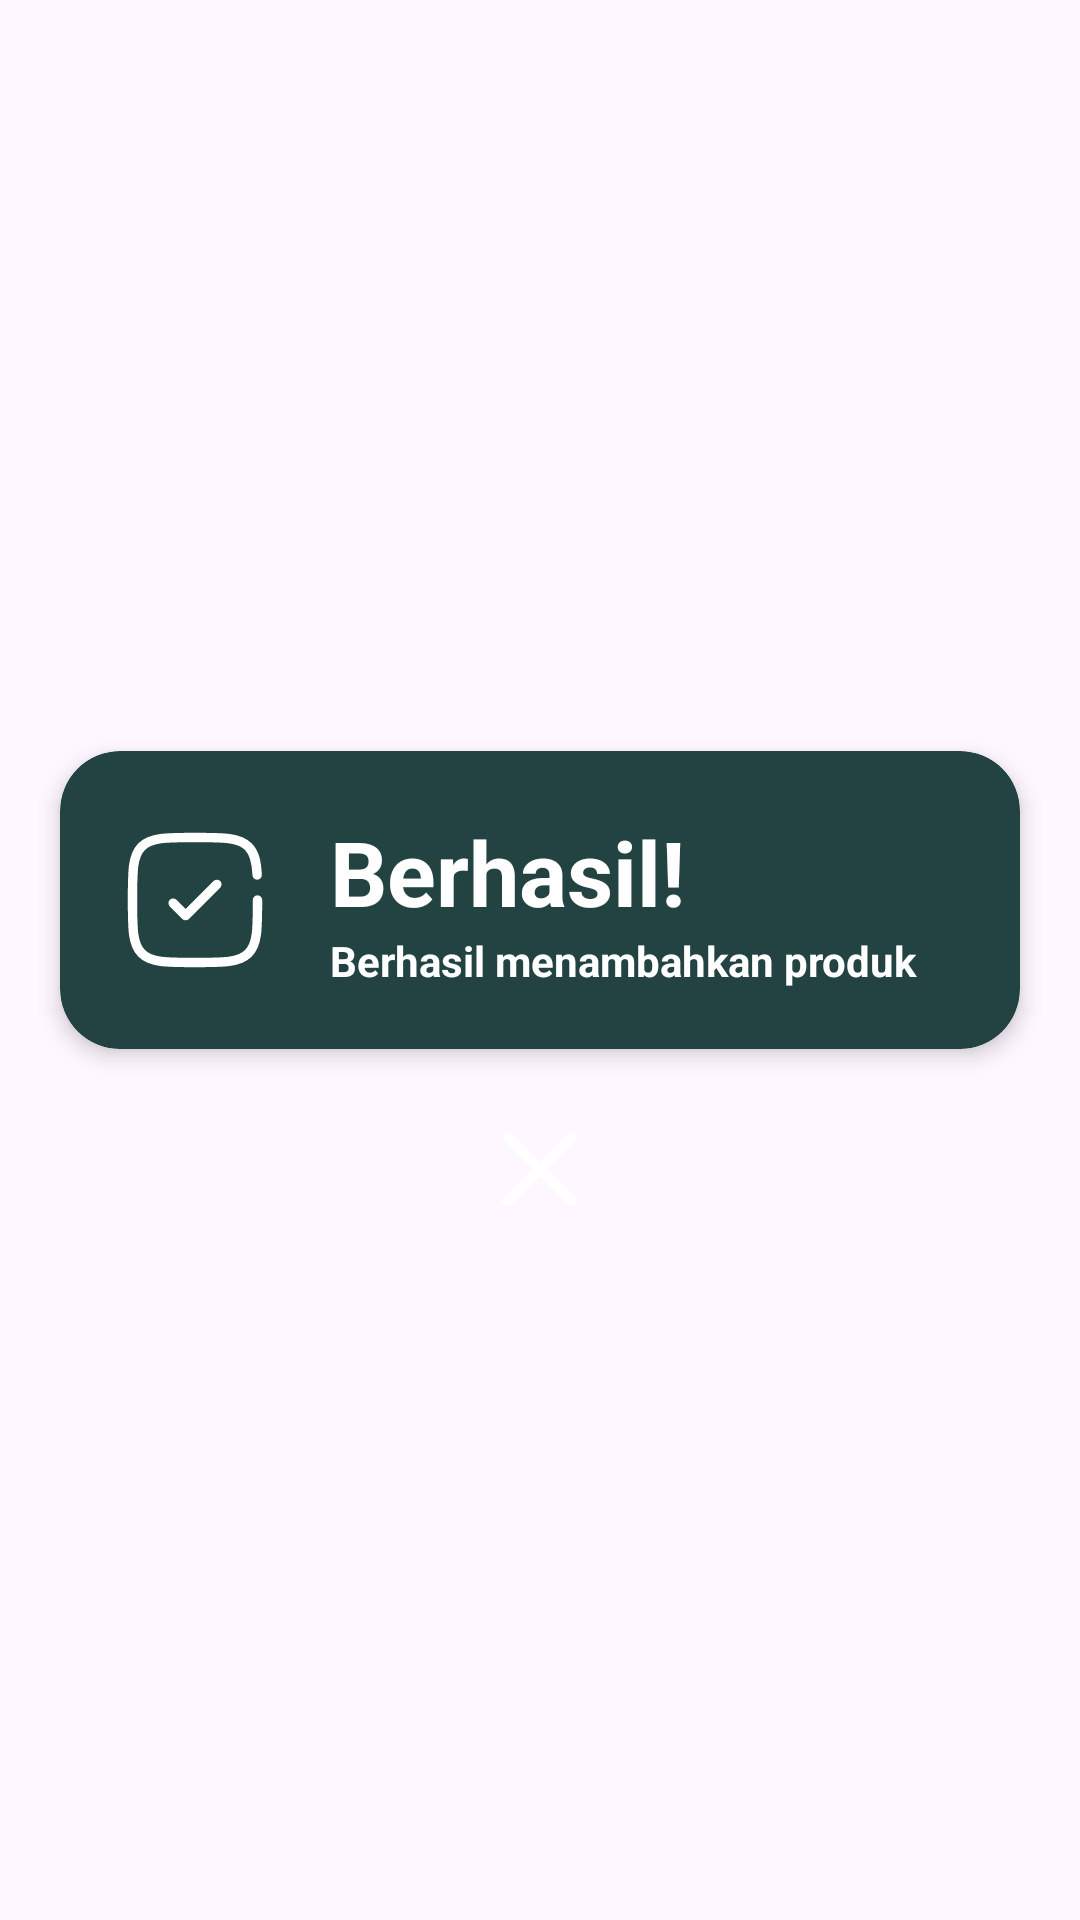

Locate icon controls on the screen. Image size 1080*1920, boxes as (x1, y1, x2, y2).
one success: (127, 832, 263, 968)
